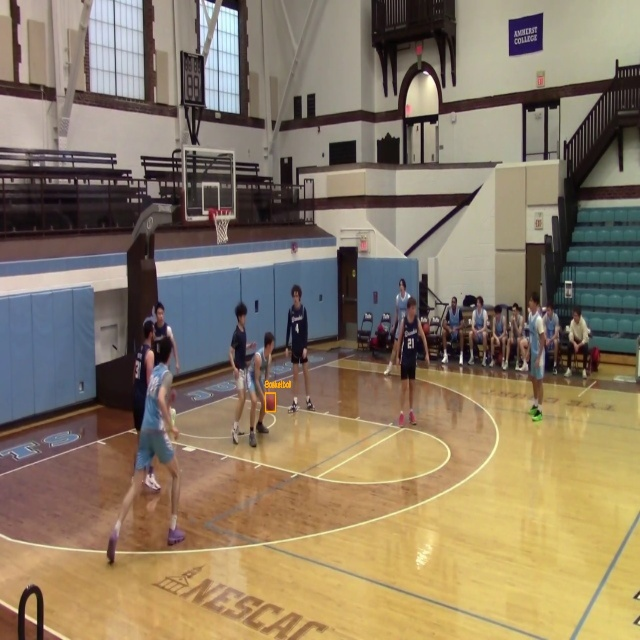Basketball: (265, 393, 276, 411)
